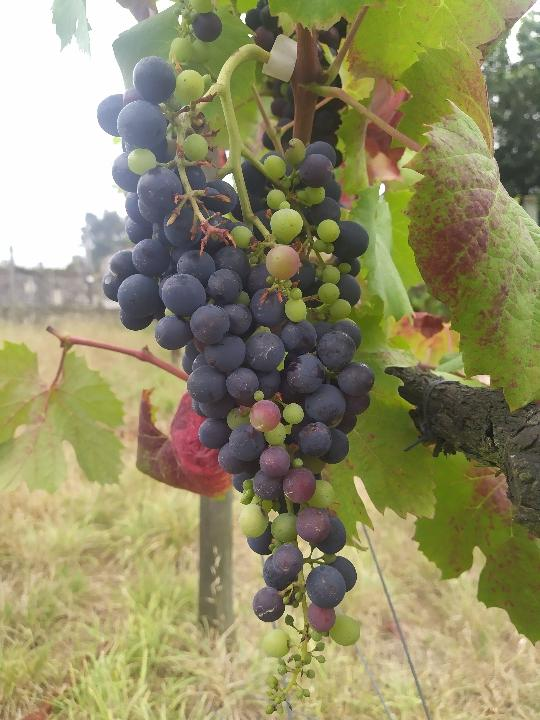grape: (97, 55, 376, 715)
